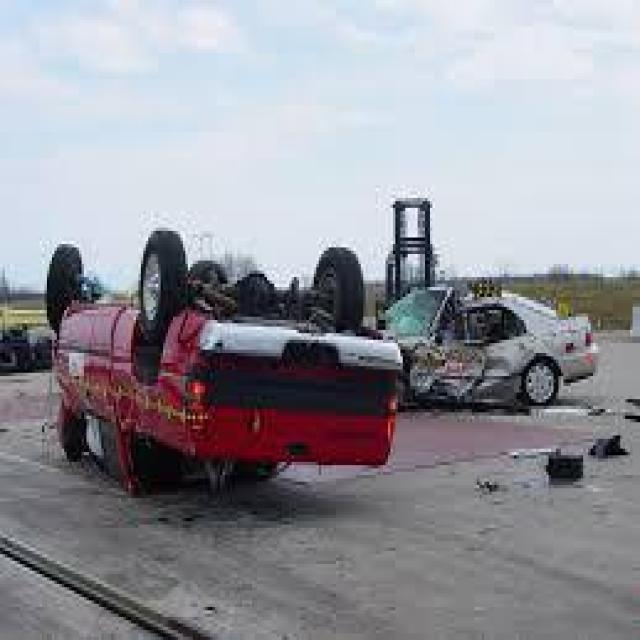severe: (39, 226, 603, 510)
